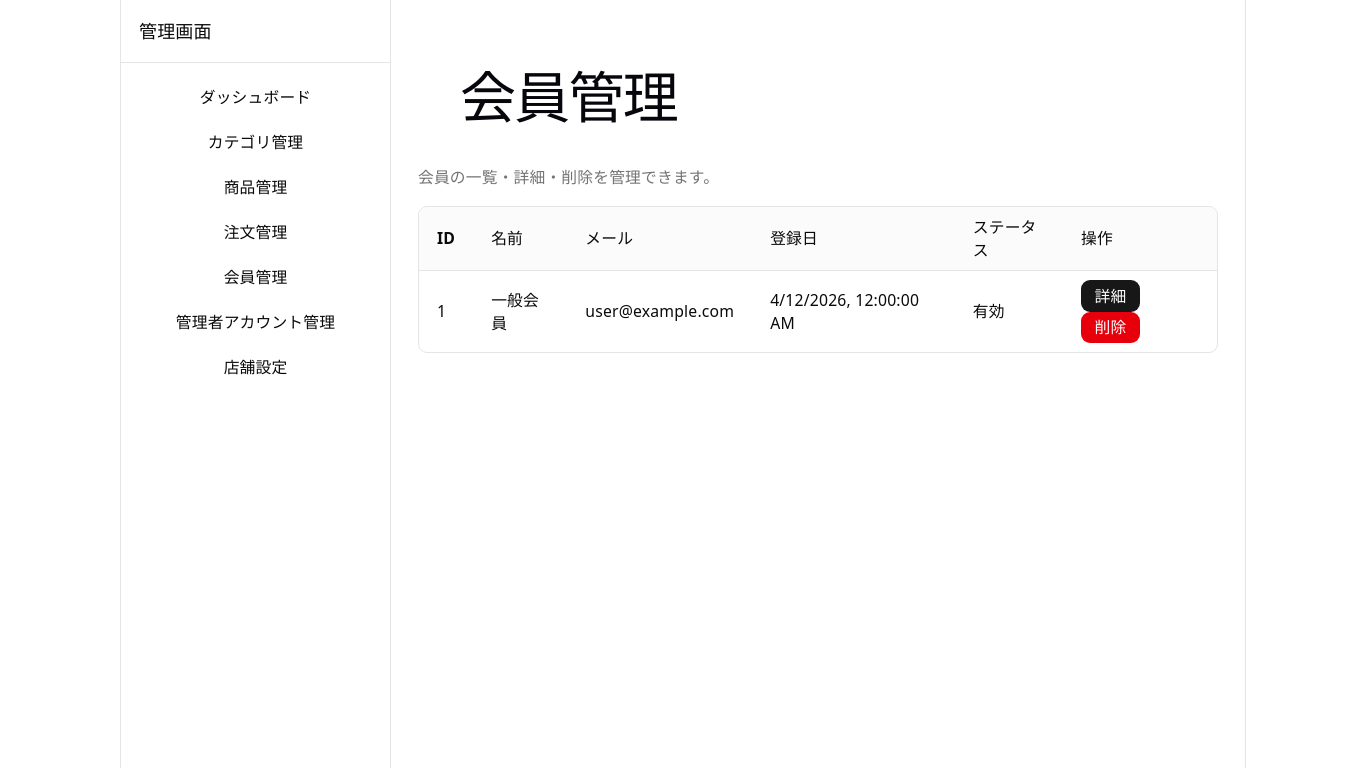
Test: AdminMembersPage › 会員削除に失敗したとき、エラーメッセージが表示されること
The width and height of the screenshot is (1366, 768).
Expected: the text "user@example.com" is shown, [567,271,752,352]
Click the button "削除". click: (1110, 327)
box: [1081,312,1140,343]
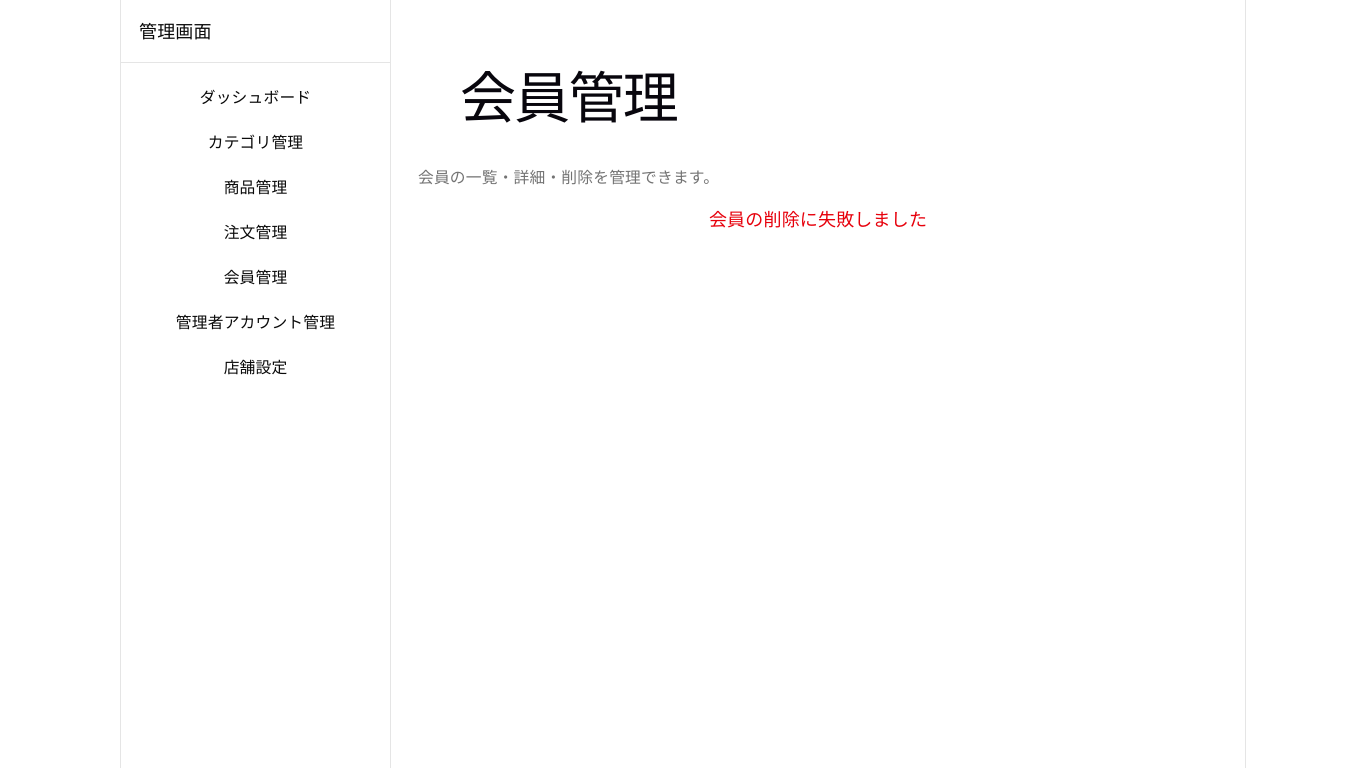
Result: the text "会員の削除に失敗しました" is shown at [709,207,927,231]
